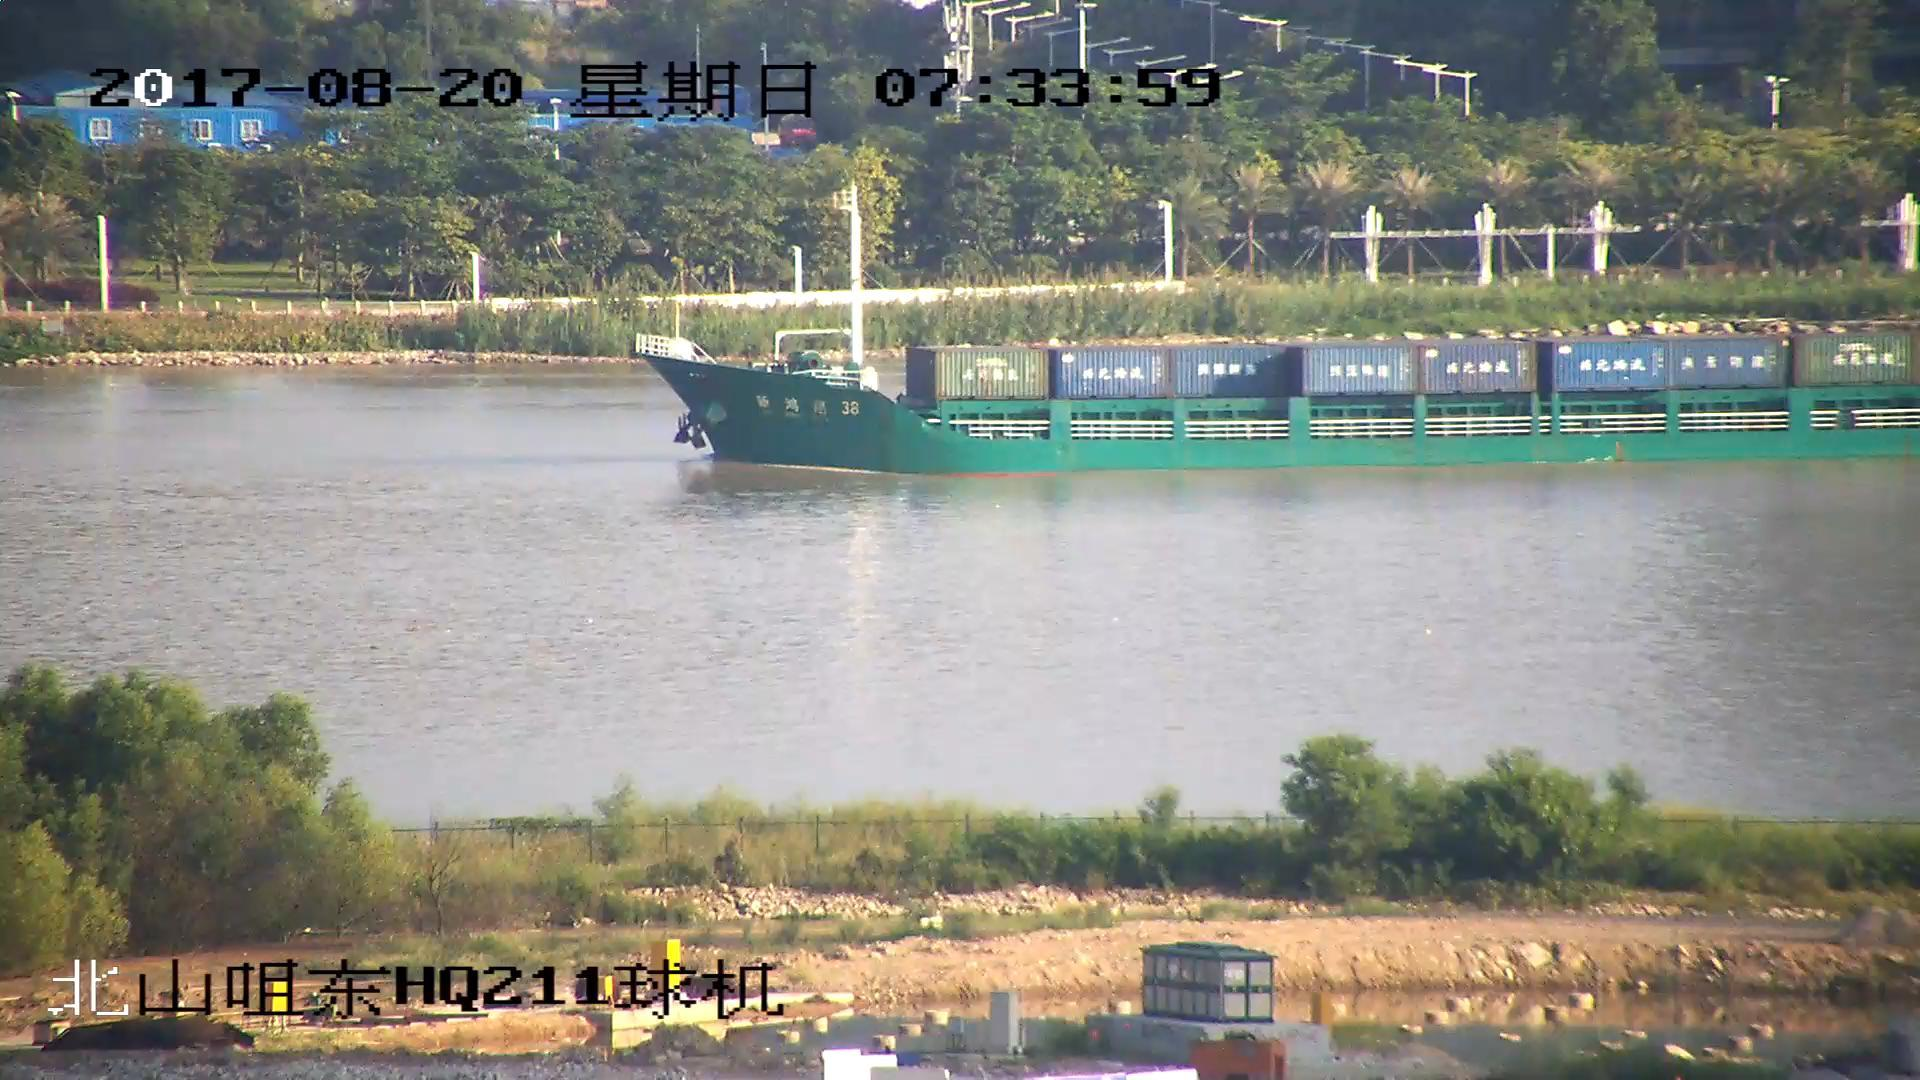Ship: (629, 191, 1920, 480)
